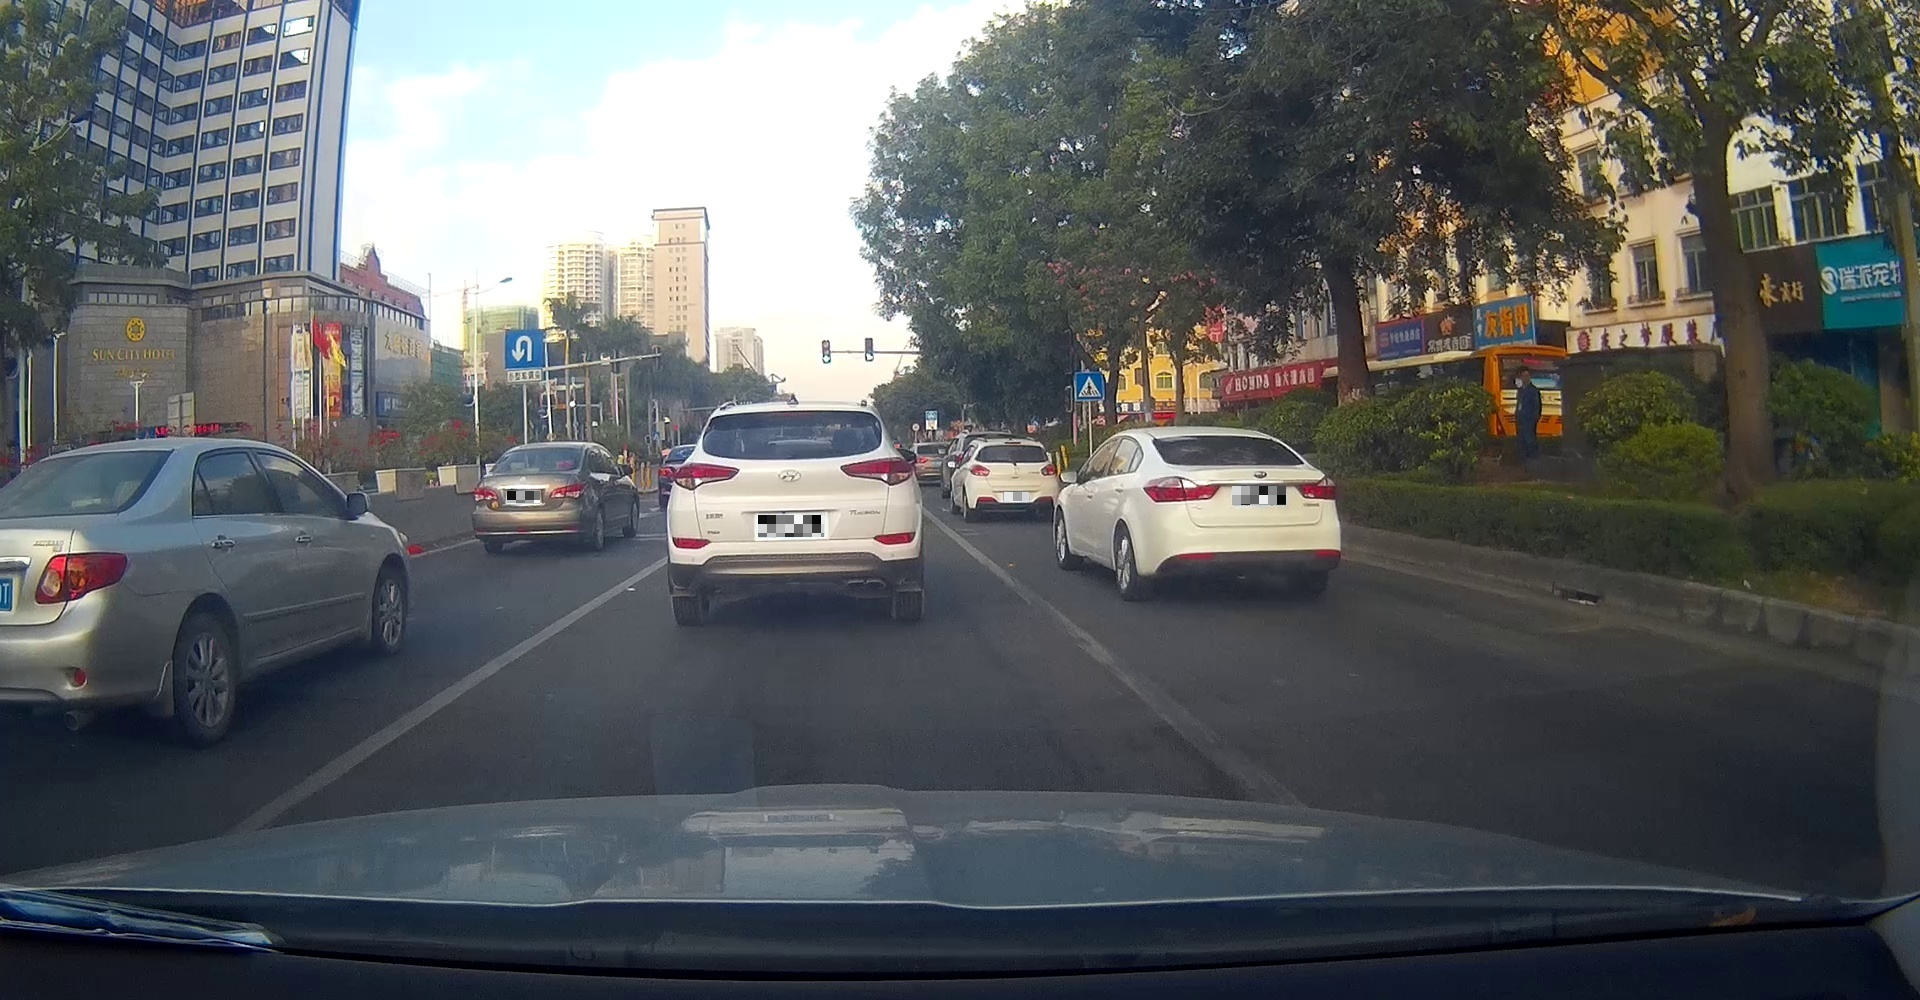L_light: (1142, 476, 1222, 503), (674, 462, 740, 491), (472, 486, 498, 501), (968, 464, 990, 477)
R_light: (841, 457, 914, 486), (1293, 475, 1337, 500), (549, 482, 589, 499), (1040, 463, 1057, 476)
T_light: (778, 411, 814, 416), (1224, 459, 1256, 464), (519, 468, 538, 472), (1004, 442, 1021, 444)
day-no: (665, 400, 922, 626), (1137, 426, 1341, 602), (471, 442, 590, 555), (964, 437, 1059, 523)
plate_1: (507, 491, 540, 503)
plate_2: (758, 515, 824, 537)
plate_3: (1004, 492, 1029, 501)
plate_4: (1232, 486, 1286, 505)
